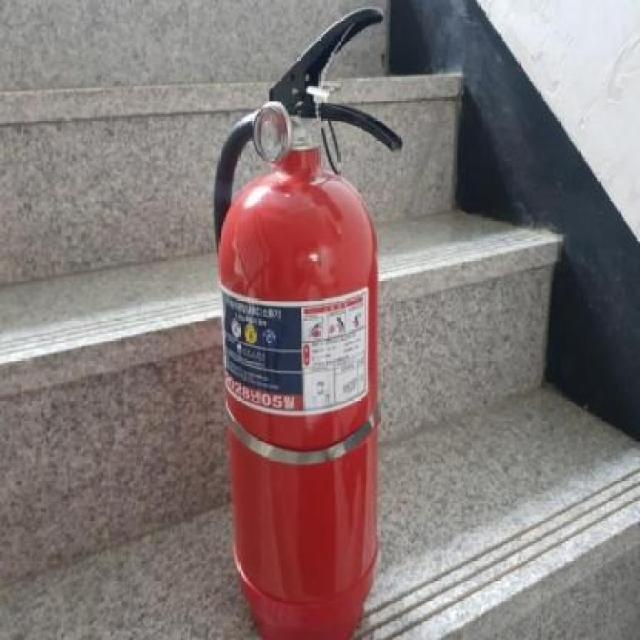fire extinguisher: (214, 6, 403, 640)
